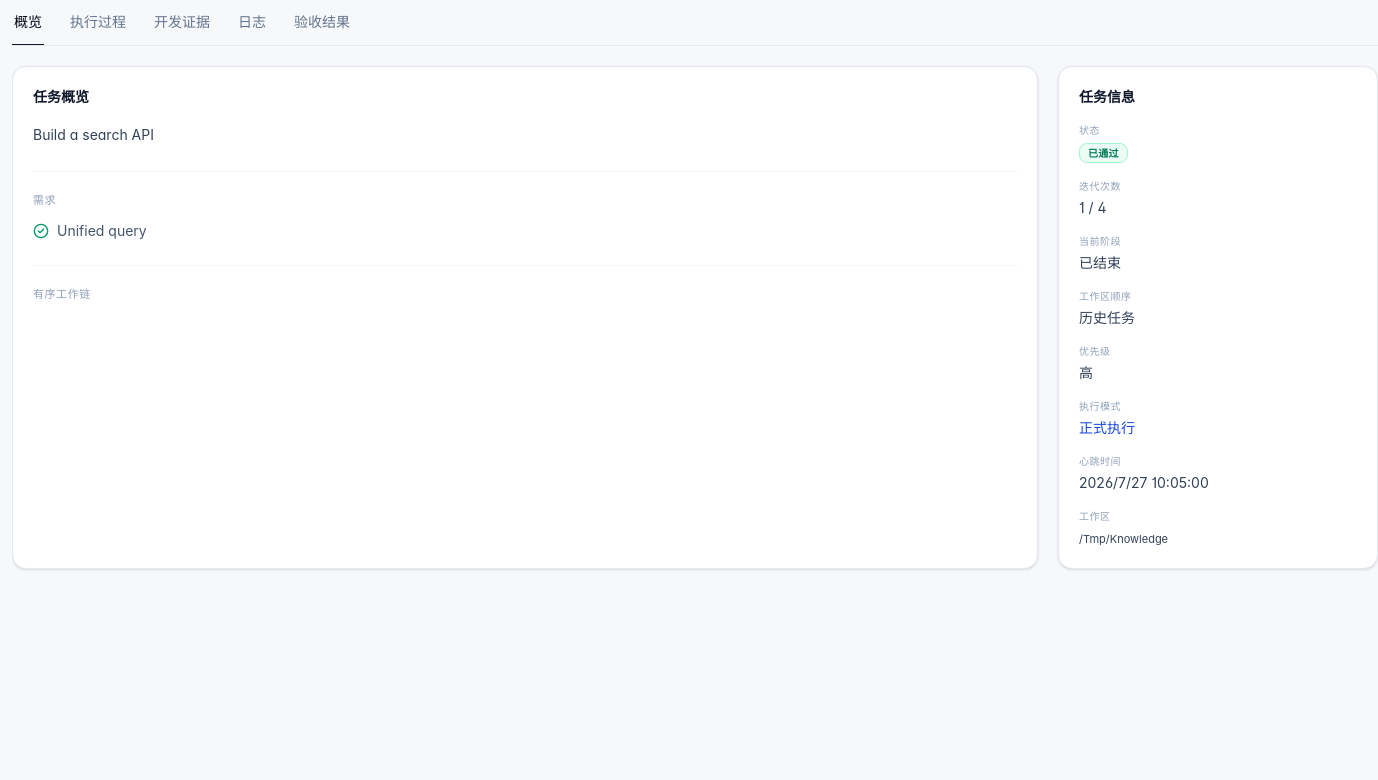
Test case: task detail tabs › shows the normalized reviewer verdict
The width and height of the screenshot is (1378, 780).
Click the tab "验收结果" at {"x": 322, "y": 29}, box [292, 12, 352, 46]
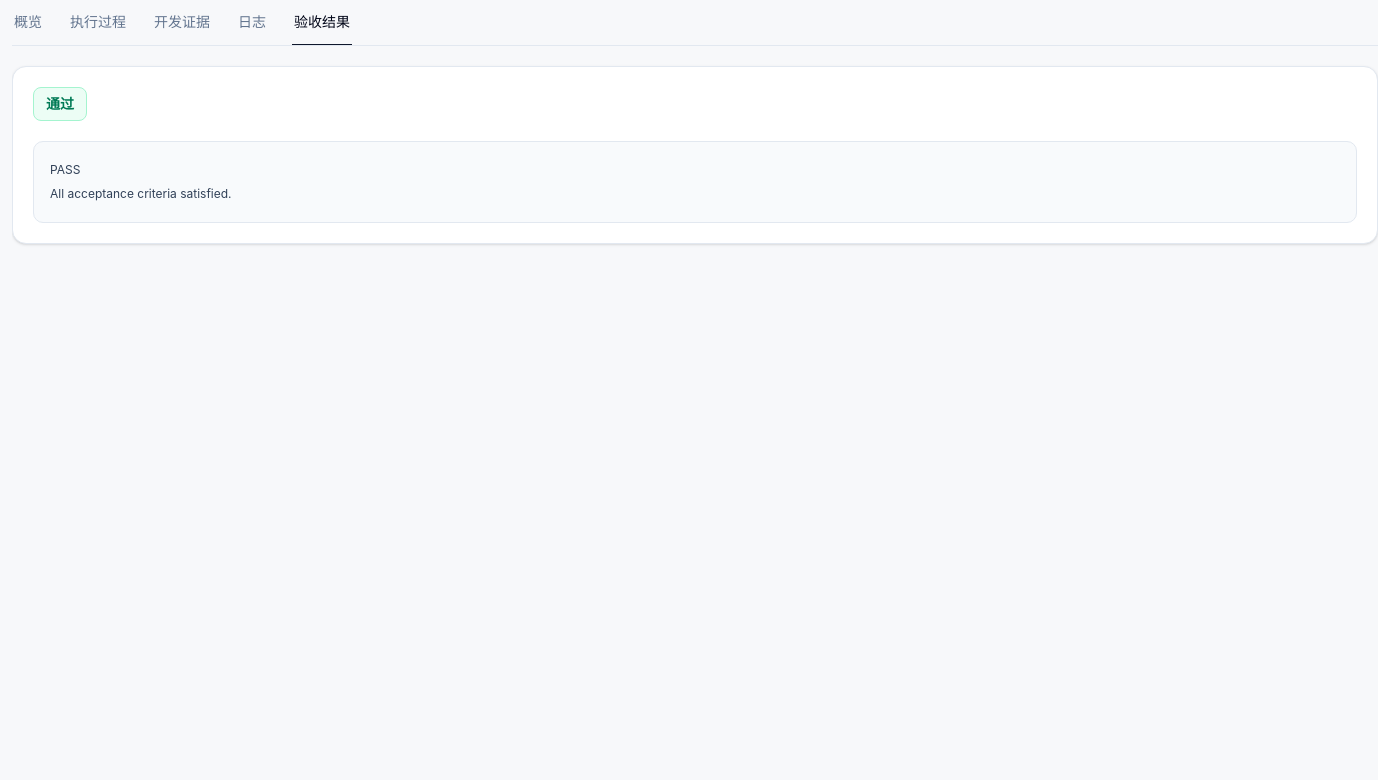
Expected: the text "通过" is shown, [33, 87, 87, 121]
Now the text "PASS All acceptance criteria satisfied." is shown, box [33, 141, 1357, 223]
